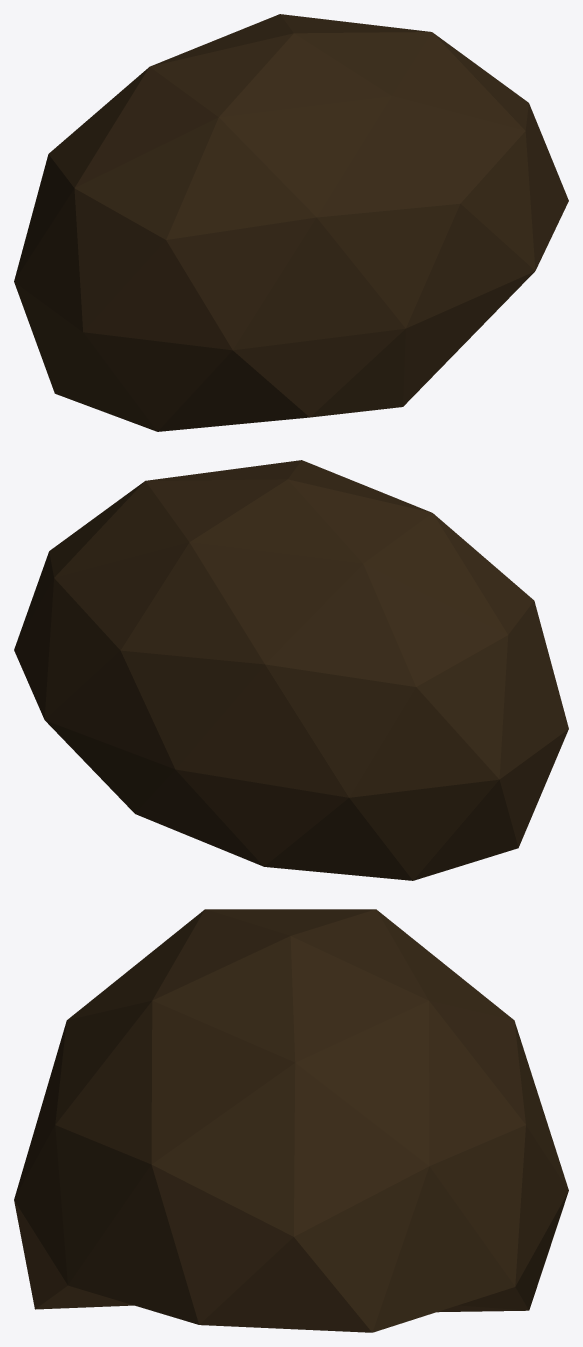
Rendered from helmet.glb.
3 views of the same model, one above another, from view 1: azimuth 30°, elevation 25°; view 2: azimuth 150°, elevation 25°; view 3: azimuth 270°, elevation 25° (orthographic). The views are drawn at different scales.
Visible parts, largest first — view 1: Icosphere; view 2: Icosphere; view 3: Icosphere.
Part boxes in pixels (x1=…): Icosphere: x1=14, y1=14, x2=568, y2=431; Icosphere: x1=14, y1=460, x2=568, y2=880; Icosphere: x1=14, y1=909, x2=568, y2=1332.
Size of the model in its own units: 1.74 by 1.07 by 1.39.
